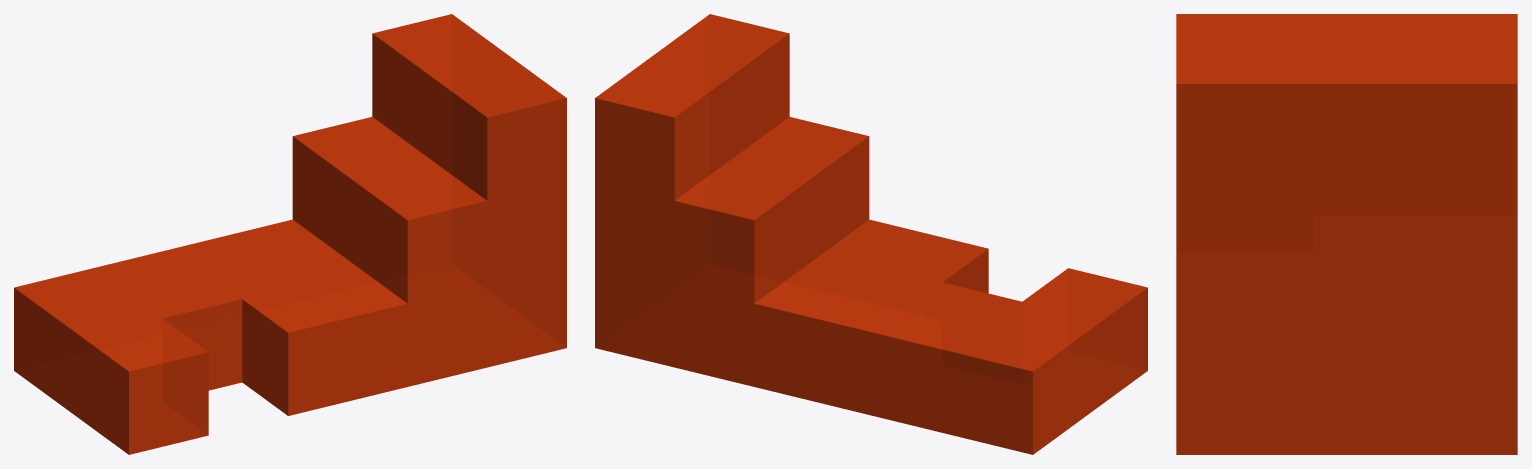
The picture shows the model from 3 angles, left to right: view 1: azimuth 30°, elevation 25°; view 2: azimuth 150°, elevation 25°; view 3: azimuth 270°, elevation 25°; orthographic projection. The views are drawn at different scales.
Parts seen in each view (by area): view 1: SketchUp; view 2: SketchUp; view 3: SketchUp.
Part boxes in pixels (x1,y1,x2,y2): SketchUp: (14, 14, 566, 454); SketchUp: (595, 14, 1147, 454); SketchUp: (1176, 14, 1517, 454).
Bounding box in the file's own units: 2165 × 984 × 1181.
